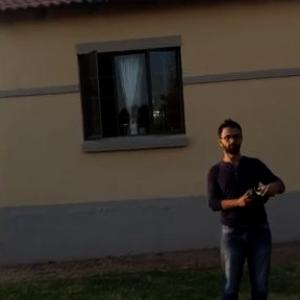follow: (200, 108, 289, 299)
